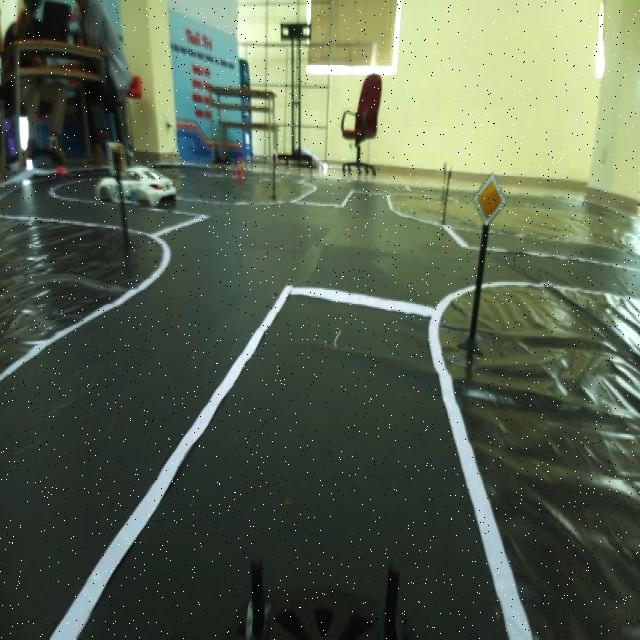priority: (464, 174, 512, 234)
